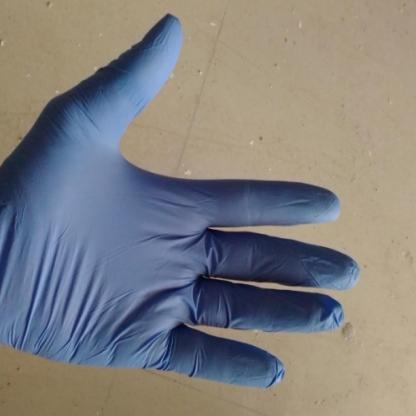gloved_hand: (0, 12, 360, 388)
